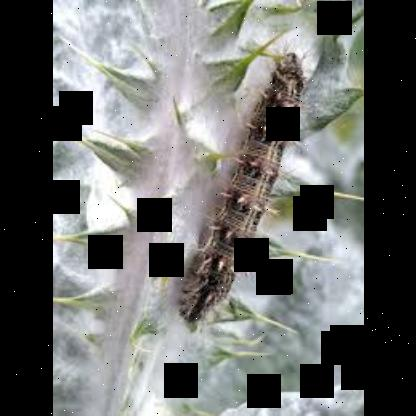oruga: (172, 50, 310, 332)
